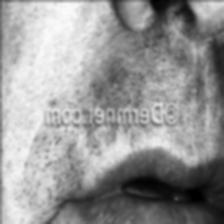Toxin: (88, 66, 138, 148), (142, 9, 170, 47)
